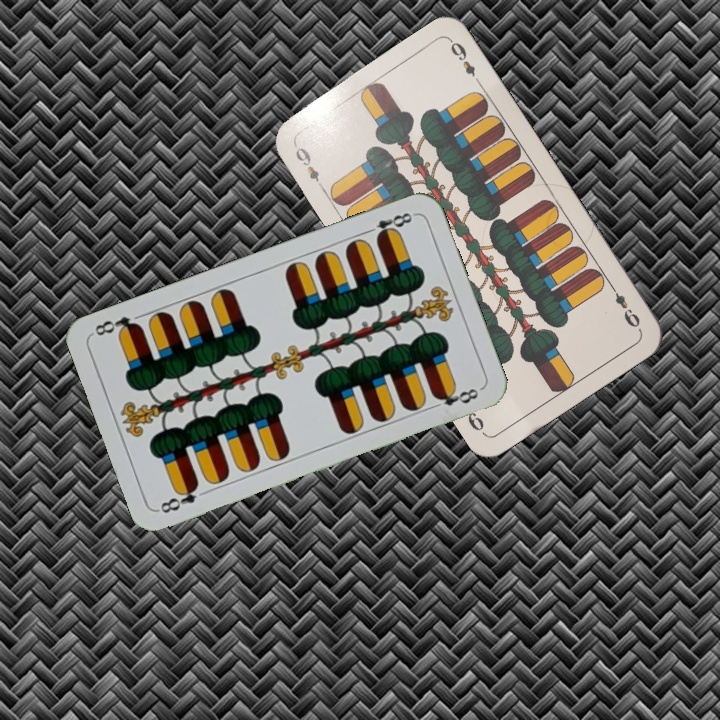E8: (361, 208, 418, 242), (156, 479, 202, 516)
E9: (605, 280, 643, 331), (291, 143, 328, 193)
